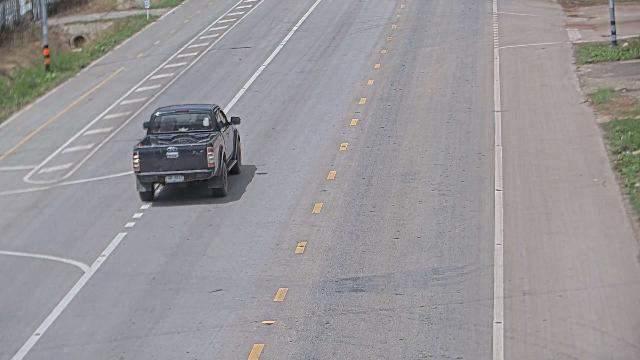pickup-truck: (131, 102, 242, 202)
